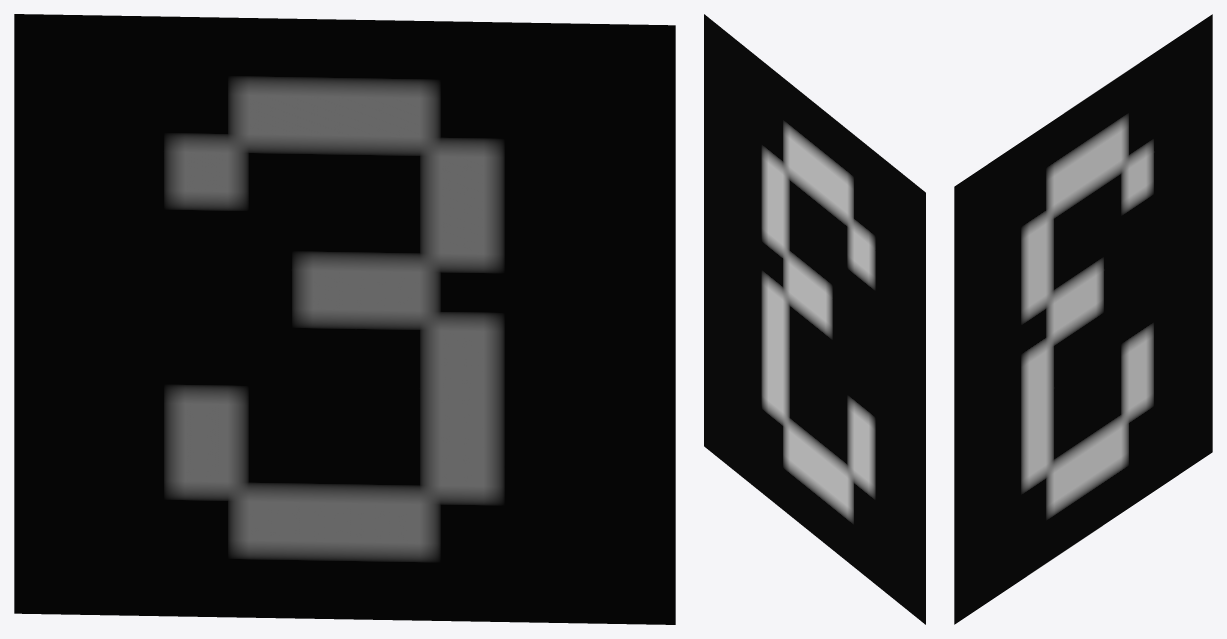
The picture shows the model from 3 angles, left to right: view 1: azimuth 30°, elevation 25°; view 2: azimuth 150°, elevation 25°; view 3: azimuth 270°, elevation 25°; orthographic projection. The views are drawn at different scales.
Parts seen in each view (by area): view 1: Joint_0_Object_0; view 2: Joint_0_Object_0; view 3: Joint_0_Object_0.
Part boxes in pixels (bbox=[...]): Joint_0_Object_0: bbox=[14, 14, 675, 624]; Joint_0_Object_0: bbox=[704, 14, 925, 624]; Joint_0_Object_0: bbox=[954, 14, 1212, 624].
Bounding box in the file's own units: 26.2 × 31 × 16.57.
Materials: 1 (1 with a texture image).
